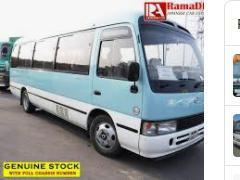bus: (9, 16, 204, 159)
